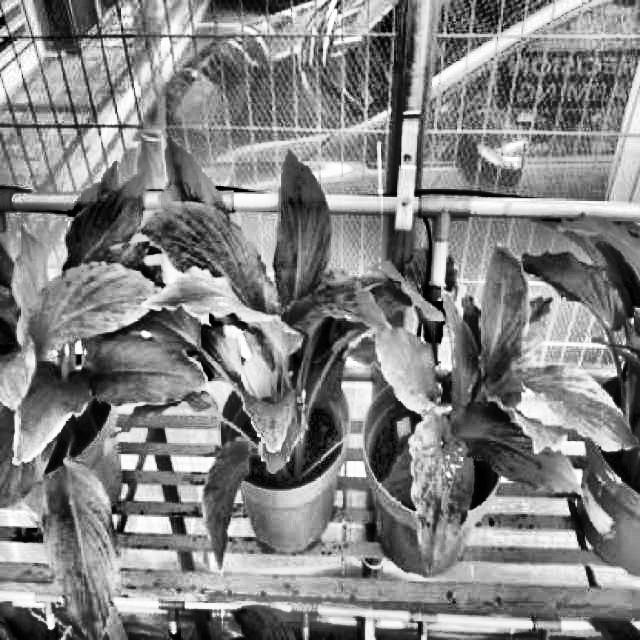plants: (102, 135, 447, 571), (0, 156, 211, 638), (372, 240, 640, 576)
